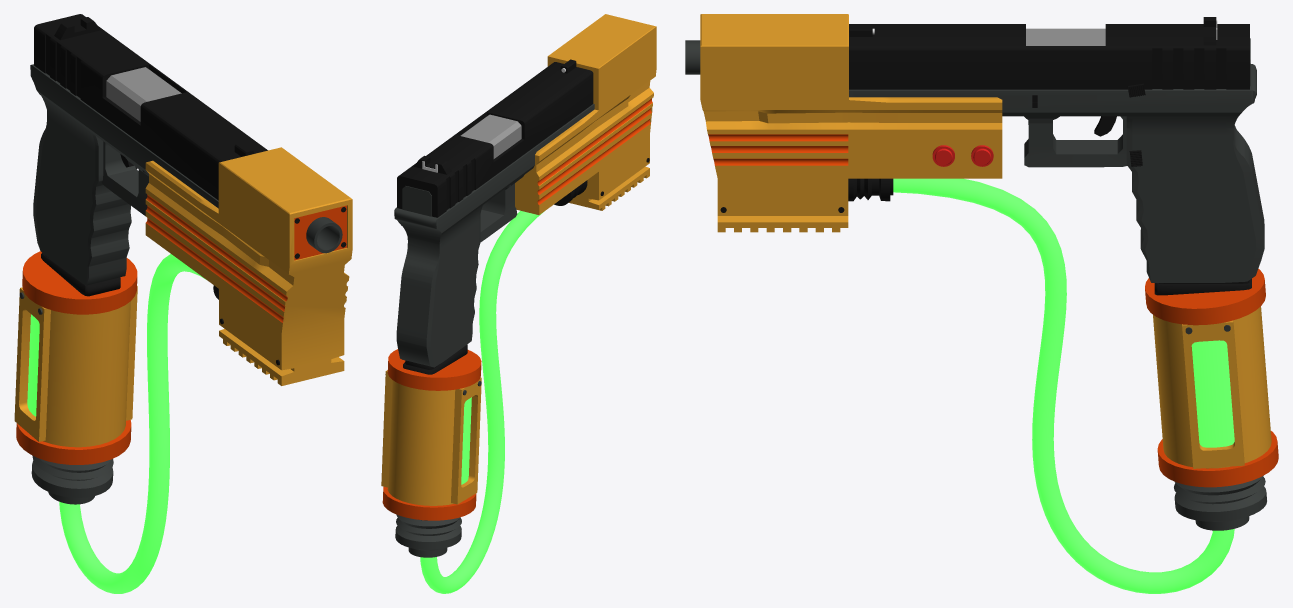
File: greenballpistol.fbx
The picture shows the model from 3 angles, left to right: view 1: azimuth 30°, elevation 25°; view 2: azimuth 150°, elevation 25°; view 3: azimuth 270°, elevation 25°; orthographic projection. The views are drawn at different scales.
Parts seen in each view (by area): view 1: Cube.013, Cube.003, Cylinder.003, Cube.011, NurbsPath.001, Cylinder.004, Cylinder.011, Cylinder.005, Cube.002, Cube.014, Cylinder, Cylinder.010 (+2 smaller); view 2: Cube.013, Cube.003, Cylinder.003, Cube.011, NurbsPath.001, Cylinder.004, Cylinder.011, Cylinder.005, Cube.002, Cube.001, Cylinder.010, Cube; view 3: Cube.013, Cube.003, Cube.011, NurbsPath.001, Cylinder.003, Cylinder.010, Cylinder.004, Cylinder.011, Cylinder.005, Cube.002, Cylinder.012, Cube.
Boxes of the visible parts, x1,y1,x2,y2 form: Cube.013: [145, 147, 352, 385]; Cube.003: [30, 64, 218, 285]; Cylinder.003: [14, 286, 137, 447]; Cube.011: [34, 14, 267, 200]; NurbsPath.001: [59, 254, 205, 593]; Cylinder.004: [22, 251, 137, 314]; Cylinder.011: [31, 455, 113, 504]; Cylinder.005: [16, 420, 131, 464]; Cube.002: [106, 67, 181, 121]; Cube.014: [294, 205, 346, 260]; Cylinder: [306, 217, 342, 253]; Cylinder.010: [27, 314, 39, 416]; Cube.013: [515, 14, 656, 214]; Cube.003: [394, 104, 594, 367]; Cylinder.003: [381, 370, 481, 505]; Cube.011: [397, 62, 593, 217]; NurbsPath.001: [420, 210, 544, 593]; Cylinder.004: [387, 349, 481, 390]; Cylinder.011: [395, 514, 461, 557]; Cylinder.005: [382, 486, 476, 520]; Cube.002: [460, 114, 521, 158]; Cube.001: [402, 186, 431, 216]; Cylinder.010: [461, 397, 471, 484]; Cube: [403, 344, 467, 374]; Cube.013: [700, 14, 1002, 232]; Cube.003: [849, 64, 1264, 282]; Cube.011: [849, 24, 1249, 89]; NurbsPath.001: [893, 178, 1234, 593]; Cylinder.003: [1153, 306, 1271, 468]; Cylinder.010: [1191, 340, 1234, 447]; Cylinder.004: [1145, 269, 1265, 325]; Cylinder.011: [1174, 475, 1266, 530]; Cylinder.005: [1157, 431, 1278, 487]; Cube.002: [1026, 28, 1105, 45]; Cylinder.012: [848, 178, 893, 201]; Cube: [1154, 278, 1251, 295].
Size of the model in its own units: 278 by 1454 by 1372.
